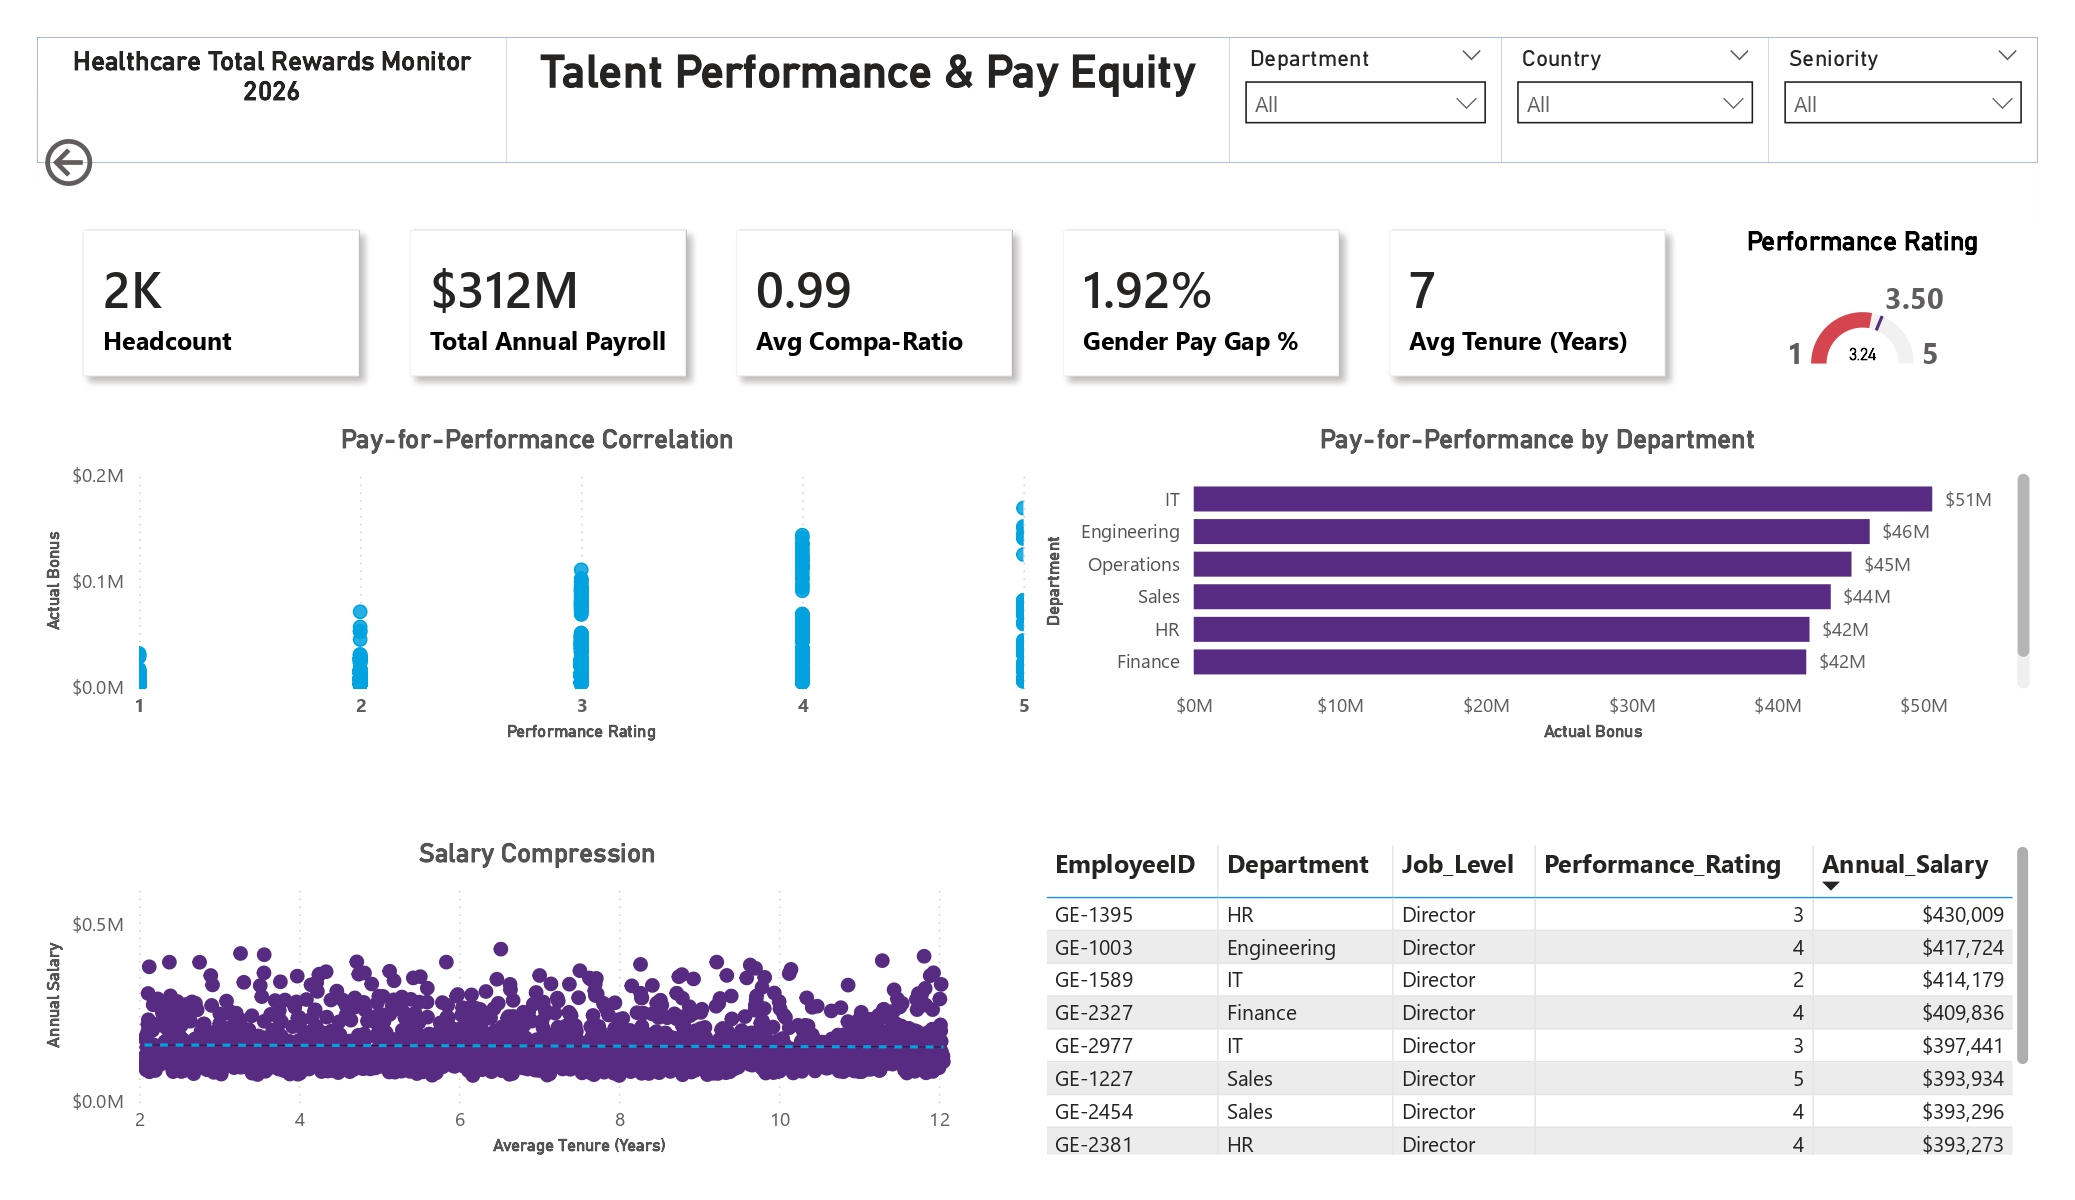

The page's visual inventory and layout, read from the dashboard file:
{"tool":"powerbi","page":{"name":"Performance","canvas":[1280,720],"ordinal":1},"visuals":[{"type":"cardVisual","fields":{"Data":["DAX Measures (2).Headcount","DAX Measures (2).Total Annual Payroll","DAX Measures (2).Avg Compa-Ratio","DAX Measures (2).Gender Pay Gap %","DAX Measures (2).Avg Tenure (Years)"]},"box":[0,94.3,1072,151.8],"z":0},{"type":"shape","box":[0,0,1280,80],"z":1000},{"type":"scatterChart","title":"Pay-for-Performance Correlation","fields":{"Category":["GE_TotalRewards_Mock_Data.EmployeeID"],"X":["Avg(GE_TotalRewards_Mock_Data.Performance_Rating)"],"Y":["Sum(GE_TotalRewards_Mock_Data.Actual_Bonus)"]},"box":[0,246.7,640,208.3],"z":2000},{"type":"scatterChart","title":"Salary Compression","fields":{"Category":["GE_TotalRewards_Mock_Data.EmployeeID"],"Y":["Sum(GE_TotalRewards_Mock_Data.Annual_Salary)"],"X":["DAX Measures (2).Avg Tenure (Years)"]},"box":[0,511.7,640,208.3],"z":3000},{"type":"clusteredBarChart","title":"Pay-for-Performance by Department","fields":{"Y":["DAX Measures (2).Total Annual Payroll"],"Category":["GE_TotalRewards_Mock_Data.Department"]},"box":[640,246.7,640,208.3],"z":4000},{"type":"tableEx","fields":{"Values":["GE_TotalRewards_Mock_Data.EmployeeID","GE_TotalRewards_Mock_Data.Department","GE_TotalRewards_Mock_Data.Job_Level","GE_TotalRewards_Mock_Data.Performance_Rating","GE_TotalRewards_Mock_Data.Annual_Salary"]},"box":[640,512,640,208],"z":5000},{"type":"slicer","fields":{"Values":["GE_TotalRewards_Mock_Data.Department"]},"box":[763.3,0,173.3,80],"z":6000},{"type":"slicer","fields":{"Values":["GE_TotalRewards_Mock_Data.Country"]},"box":[936.7,0,171.7,80],"z":7000},{"type":"slicer","fields":{"Values":["GE_TotalRewards_Mock_Data.Job_Level"]},"box":[1108.3,0,171.7,80],"z":8000},{"type":"textbox","box":[0,0,300,80],"z":9000},{"type":"textbox","box":[300,0,463.3,80],"z":10000},{"type":"actionButton","box":[0,60,100,40],"z":11000},{"type":"gauge","title":"Performance Rating","fields":{"Y":["DAX Measures (2).AVG Performance Rating"],"MinValue":["DAX Measures (2).Min Performance Rating"],"MaxValue":["DAX Measures (2).Max Performance Rating"],"TargetValue":["DAX Measures (2).Target Rating"]},"box":[1055.7,120,224.3,98.6],"z":12000}]}

Visuals, with their boxes on the page's 1280x720 design canvas (x1, y1, x2, y2). These are canvas units, not pixel positions in the 2075x1200 screenshot, which may show the page scaled, cropped or inside an application window:
cardVisual - DAX Measures (2).Headcount x DAX Measures (2).Total Annual Payroll: <box>0,94,1072,246</box>
shape: <box>0,0,1280,80</box>
"Pay-for-Performance Correlation" scatterChart: <box>0,247,640,455</box>
"Salary Compression" scatterChart: <box>0,512,640,720</box>
"Pay-for-Performance by Department" clusteredBarChart: <box>640,247,1280,455</box>
tableEx - GE_TotalRewards_Mock_Data.EmployeeID x GE_TotalRewards_Mock_Data.Department: <box>640,512,1280,720</box>
slicer - GE_TotalRewards_Mock_Data.Department: <box>763,0,937,80</box>
slicer - GE_TotalRewards_Mock_Data.Country: <box>937,0,1108,80</box>
slicer - GE_TotalRewards_Mock_Data.Job_Level: <box>1108,0,1280,80</box>
textbox: <box>0,0,300,80</box>
textbox: <box>300,0,763,80</box>
actionButton: <box>0,60,100,100</box>
"Performance Rating" gauge: <box>1056,120,1280,219</box>
